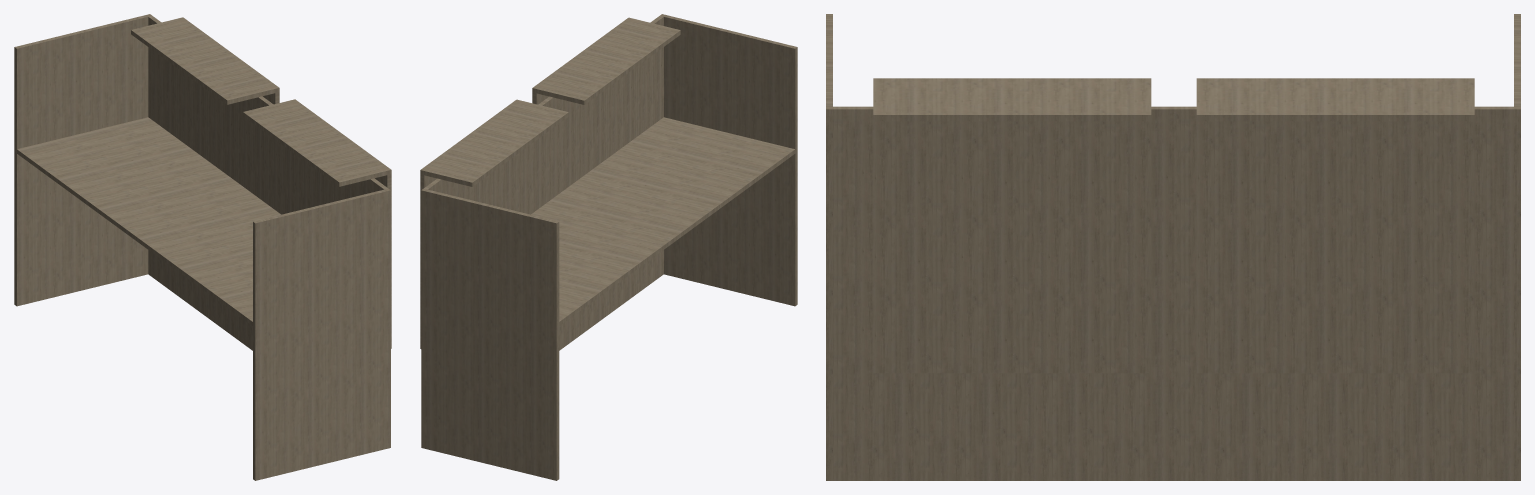
Rendered from res9.glb.
3 views of the same model, side by side, from view 1: azimuth 30°, elevation 25°; view 2: azimuth 150°, elevation 25°; view 3: azimuth 270°, elevation 25° (orthographic). The views are drawn at different scales.
Visible parts, largest first — view 1: Box067, Box068, Box070, Box069, Box071, Box075; view 2: Box068, Box067, Box070, Box069, Box075, Box071, Box076; view 3: Box069, Box074, Box076, Box071, Box075, Box067, Box068.
Boxes of the visible parts, bbox=[...] form: Box067: bbox=[253, 188, 390, 480]; Box068: bbox=[14, 14, 151, 306]; Box070: bbox=[17, 117, 280, 325]; Box069: bbox=[148, 16, 387, 350]; Box071: bbox=[243, 99, 391, 186]; Box075: bbox=[131, 17, 279, 104]; Box068: bbox=[421, 188, 559, 480]; Box067: bbox=[660, 14, 797, 306]; Box070: bbox=[531, 117, 795, 325]; Box069: bbox=[424, 16, 663, 350]; Box075: bbox=[420, 99, 568, 186]; Box071: bbox=[532, 17, 680, 104]; Box076: bbox=[420, 174, 436, 348]; Box069: bbox=[833, 106, 1513, 480]; Box074: bbox=[873, 121, 1151, 373]; Box076: bbox=[1196, 121, 1474, 373]; Box071: bbox=[873, 78, 1151, 121]; Box075: bbox=[1196, 78, 1474, 121]; Box067: bbox=[826, 14, 832, 480]; Box068: bbox=[1514, 14, 1520, 480].
Bounding box in the file's own units: 0.7315 × 1.2 × 2.
Materials: 1 (1 with a texture image).
